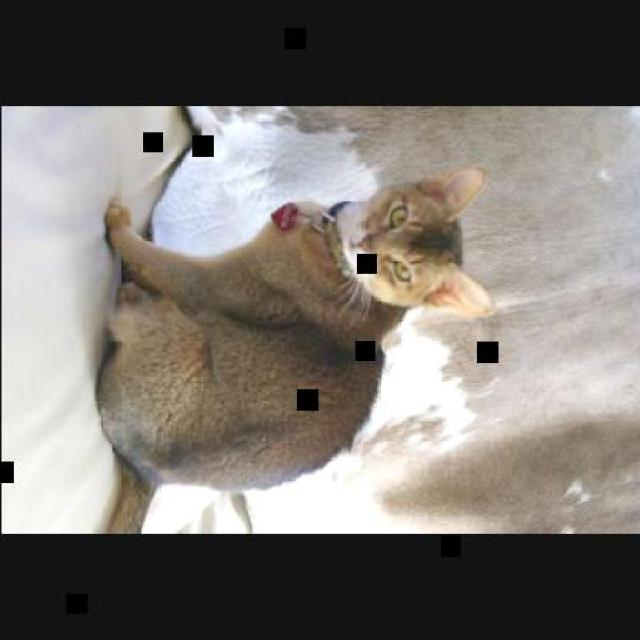unauthorized: (94, 108, 495, 532), (102, 163, 496, 355)
